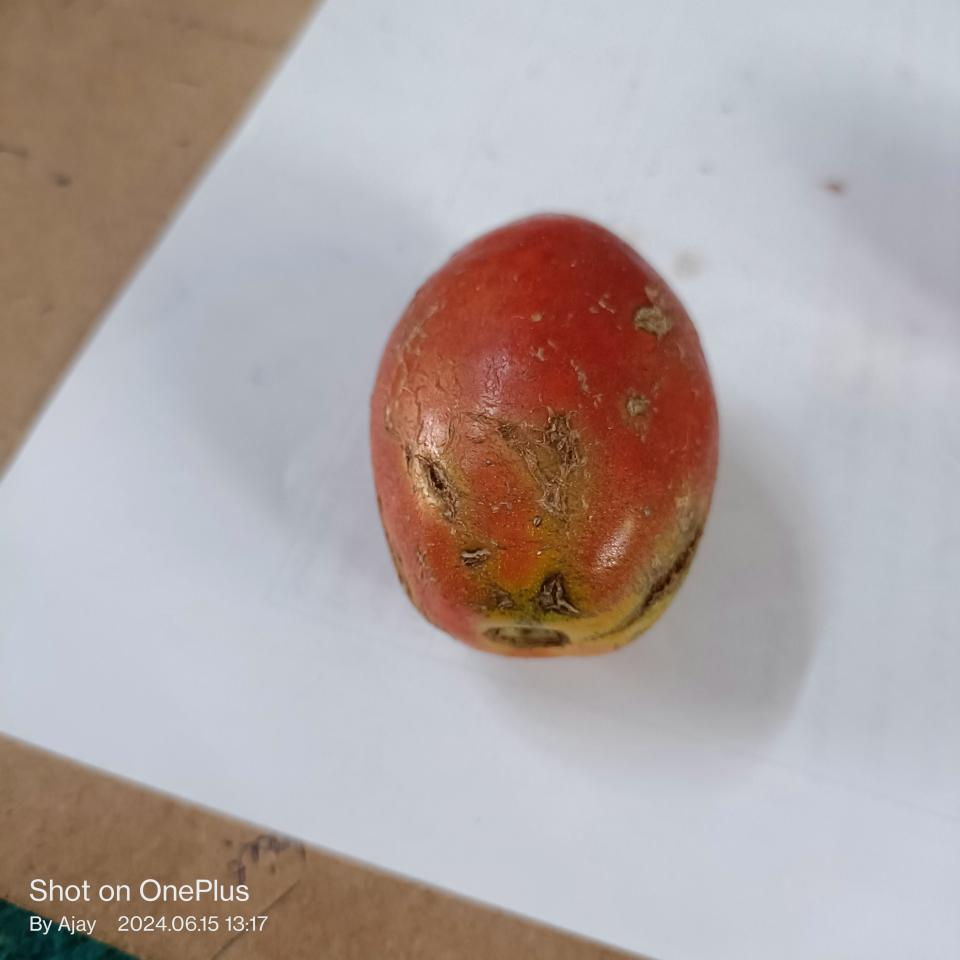Bacterial_Spot: (505, 411, 584, 515), (418, 454, 458, 519), (526, 571, 580, 619), (633, 303, 670, 339), (463, 544, 490, 570), (487, 585, 514, 610), (625, 392, 648, 417)
